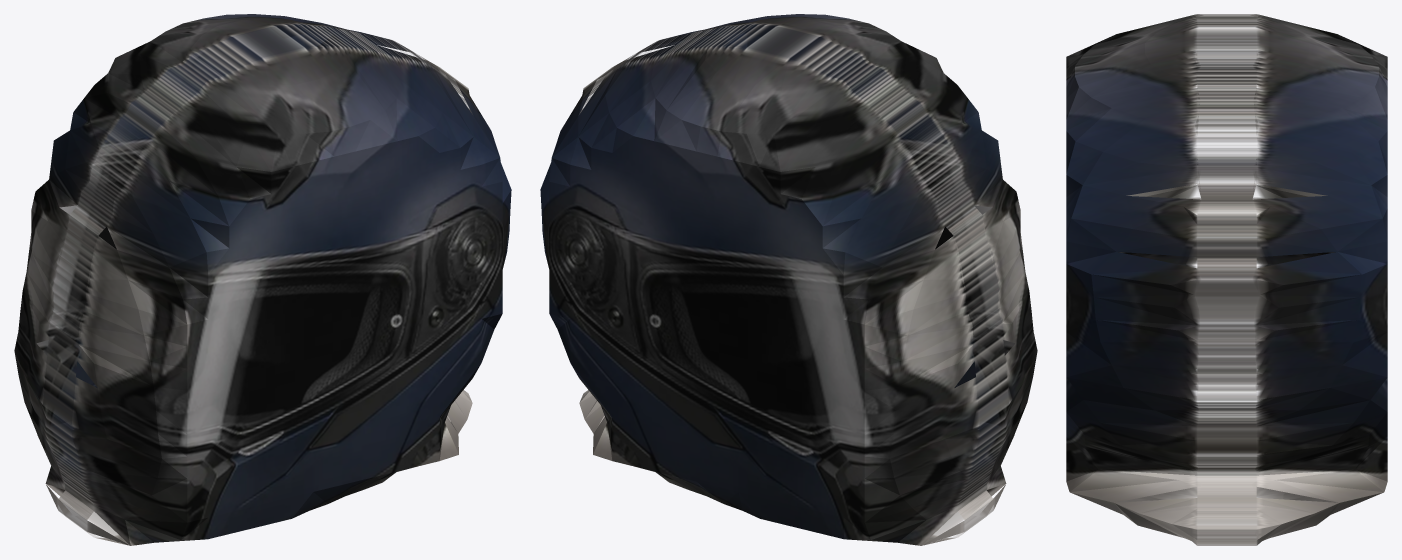
Rendered from arai-apex-modular-helmet-055.glb.
3 views of the same model, side by side, from view 1: azimuth 30°, elevation 25°; view 2: azimuth 150°, elevation 25°; view 3: azimuth 270°, elevation 25° (orthographic). The views are drawn at different scales.
Parts seen in each view (by area): view 1: world; view 2: world; view 3: world.
Part boxes in pixels (x1,y1,x2,y2): world: (14, 14, 511, 545); world: (540, 14, 1037, 545); world: (1066, 14, 1387, 545).
Size of the model in its own units: 0.9801 by 1 by 0.64.
Materials: 1 (1 with a texture image).
